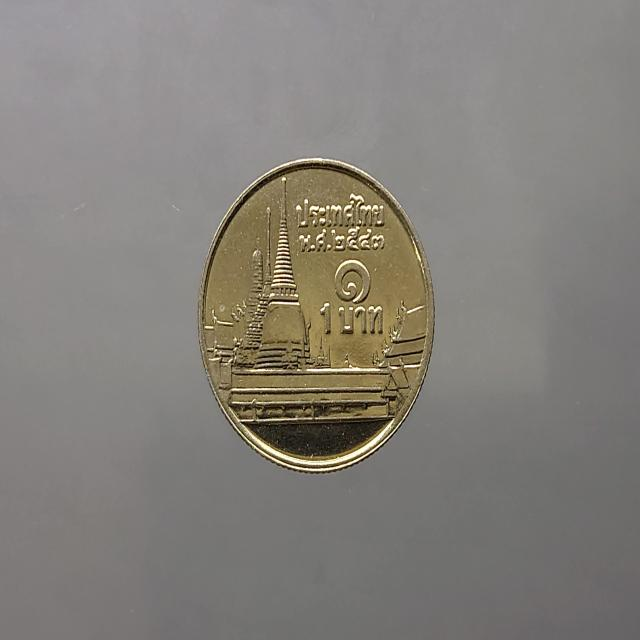1 Bath: (195, 147, 445, 486)
